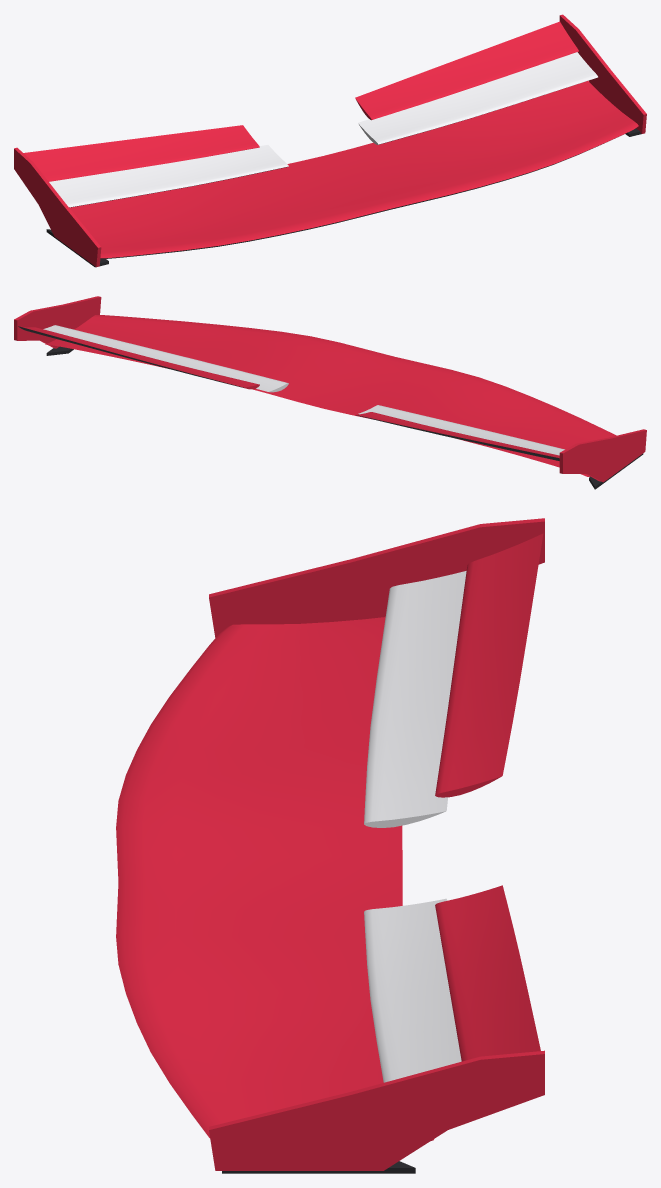
The model's file is lowdf.glb.
3 renders of one model, top to bottom at view 1: azimuth 30°, elevation 25°; view 2: azimuth 150°, elevation 25°; view 3: azimuth 270°, elevation 25°, orthographic. The views are drawn at different scales.
Visible parts, largest first — view 1: FrontWing_lowdf; view 2: FrontWing_lowdf; view 3: FrontWing_lowdf.
Part boxes in pixels (x1,y1,x2,y2): FrontWing_lowdf: (14,14,646,267); FrontWing_lowdf: (14,296,646,489); FrontWing_lowdf: (116,518,544,1173).
Bounding box in the file's own units: 1.96 × 0.205 × 0.6637.
